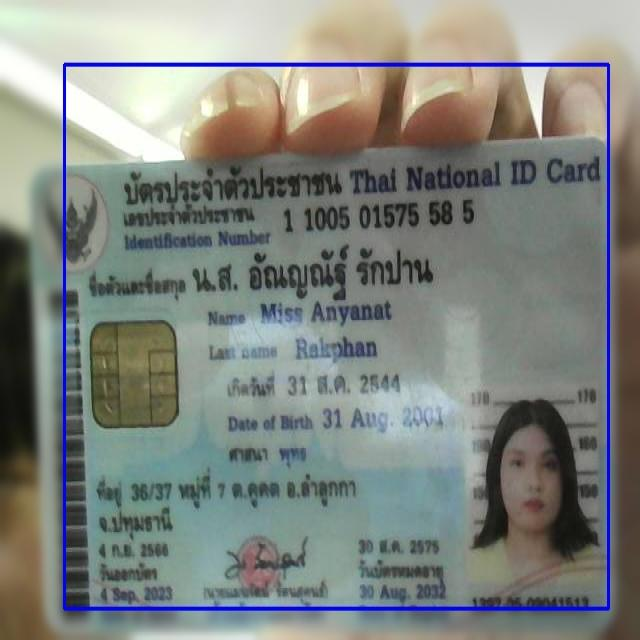Address_th: (89, 461, 385, 543)
Date_of_Birth: (319, 400, 446, 438)
Date_of_Expiry: (357, 581, 448, 603)
Date_of_Issue: (98, 585, 178, 607)
First_Name: (257, 298, 395, 329)
ID_Number: (279, 197, 482, 239)
Image: (462, 382, 598, 584)
Last_Name: (292, 333, 382, 368)
Thai_Name: (186, 243, 447, 302)
